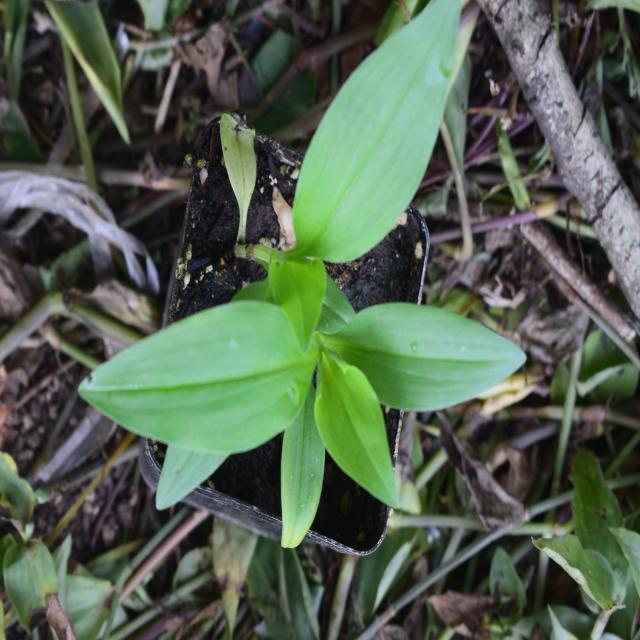Common Dayflower: (95, 256, 525, 532), (268, 11, 480, 258)
